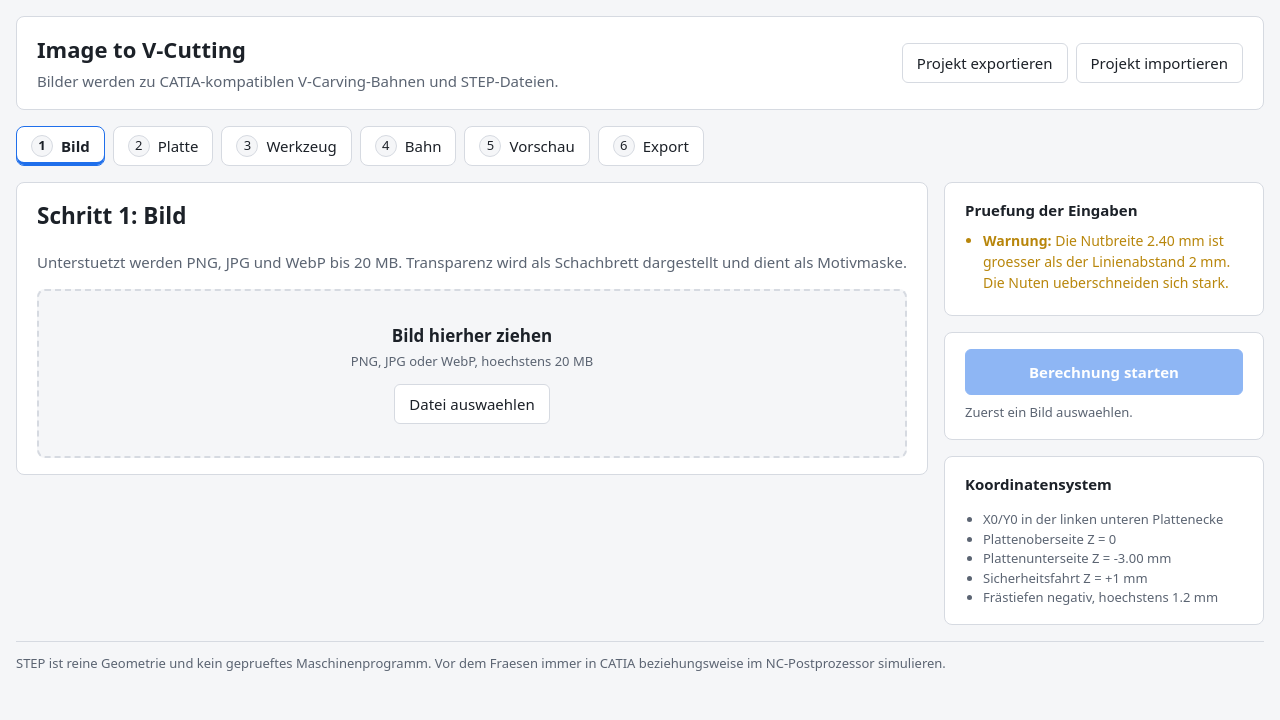
Test case: App › wechselt den Schritt ueber die Navigation
Step 1. Click the button "3 Werkzeug" → (287, 146), box [221,126,352,166]
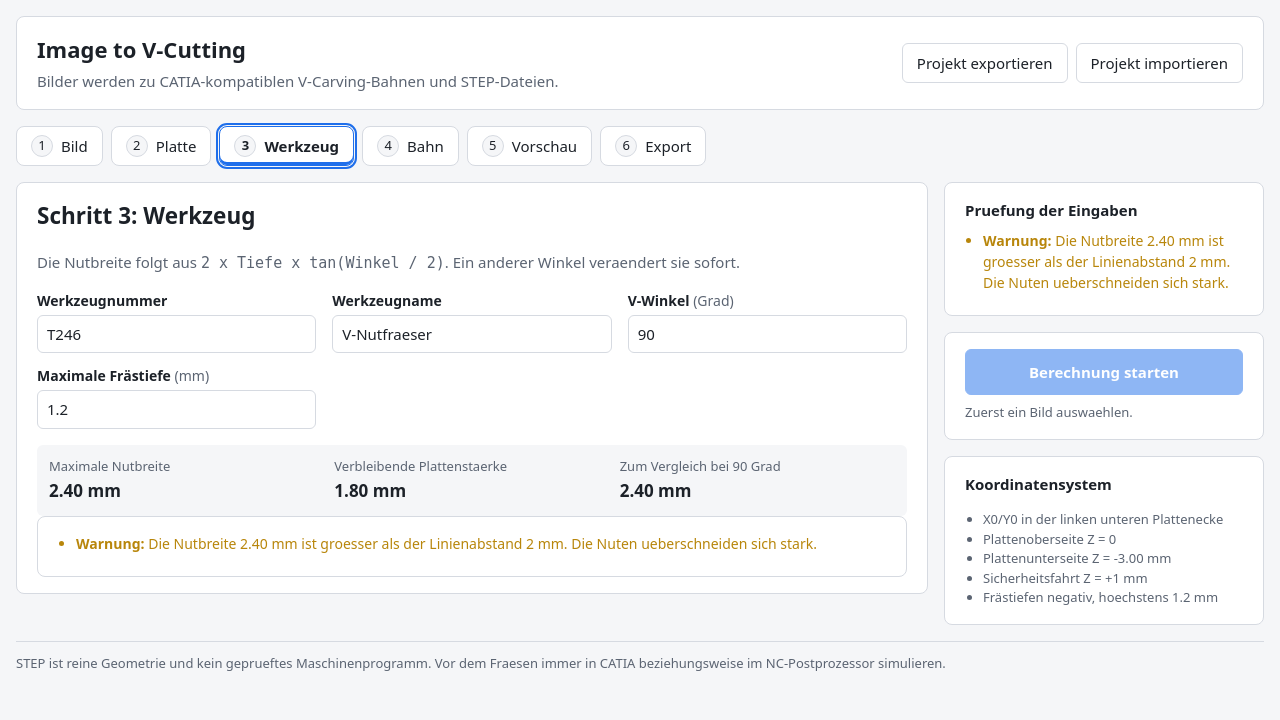
Expected: the heading "Schritt 3: Werkzeug" is shown, [37,200,255,231]
Expected: the text with test id "groove-width" reads "2.40 mm", [49,479,121,502]
